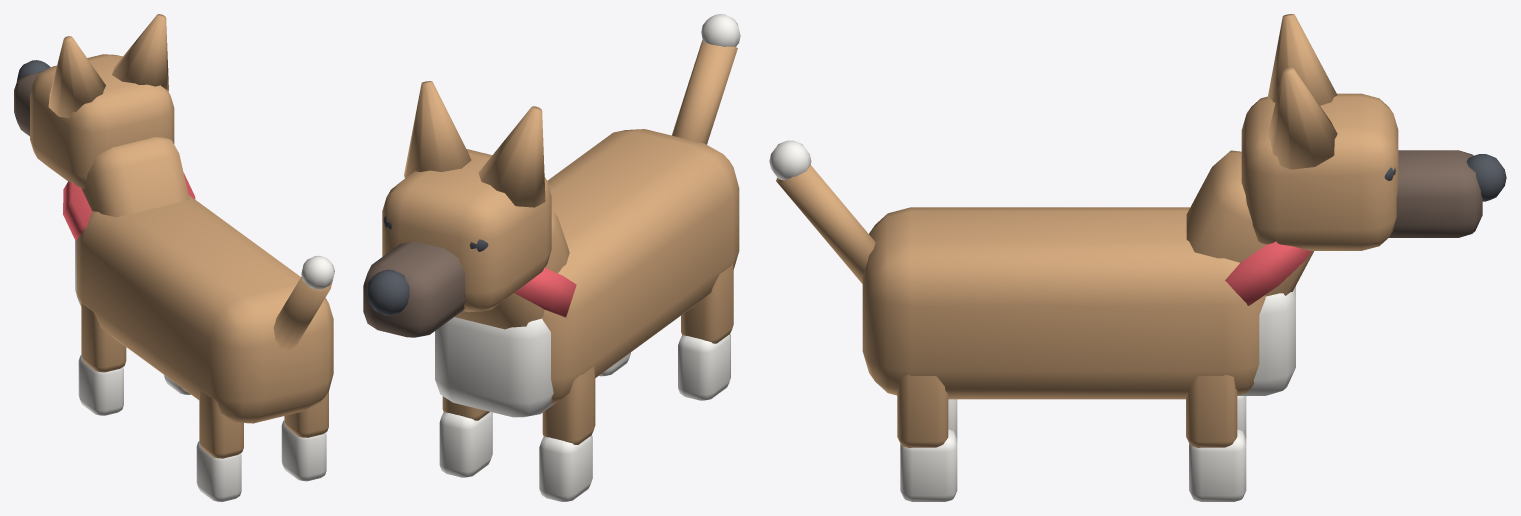
The model's file is stray_dog.glb.
3 renders of one model, left to right at view 1: azimuth 30°, elevation 25°; view 2: azimuth 150°, elevation 25°; view 3: azimuth 270°, elevation 25°, orthographic. The views are drawn at different scales.
Parts seen in each view (by area): view 1: Dog_Body, Dog_Leg_RL, Dog_Leg_FL, Dog_Leg_RR; view 2: Dog_Body, Dog_Leg_FL, Dog_Leg_RL, Dog_Leg_FR; view 3: Dog_Body, Dog_Leg_FR, Dog_Leg_RR.
Part boxes in pixels (x1=…): Dog_Body: x1=14, y1=14, x2=334, y2=423; Dog_Leg_RL: x1=196, y1=390, x2=243, y2=501; Dog_Leg_FL: x1=78, y1=302, x2=126, y2=415; Dog_Leg_RR: x1=281, y1=391, x2=328, y2=481; Dog_Body: x1=363, y1=14, x2=740, y2=417; Dog_Leg_FL: x1=539, y1=366, x2=595, y2=501; Dog_Leg_RL: x1=678, y1=263, x2=733, y2=400; Dog_Leg_FR: x1=439, y1=396, x2=492, y2=477; Dog_Body: x1=769, y1=14, x2=1506, y2=399; Dog_Leg_FR: x1=1186, y1=374, x2=1246, y2=501; Dog_Leg_RR: x1=897, y1=374, x2=957, y2=501.
Size of the model in its own units: 0.28 by 0.7894 by 1.23.
